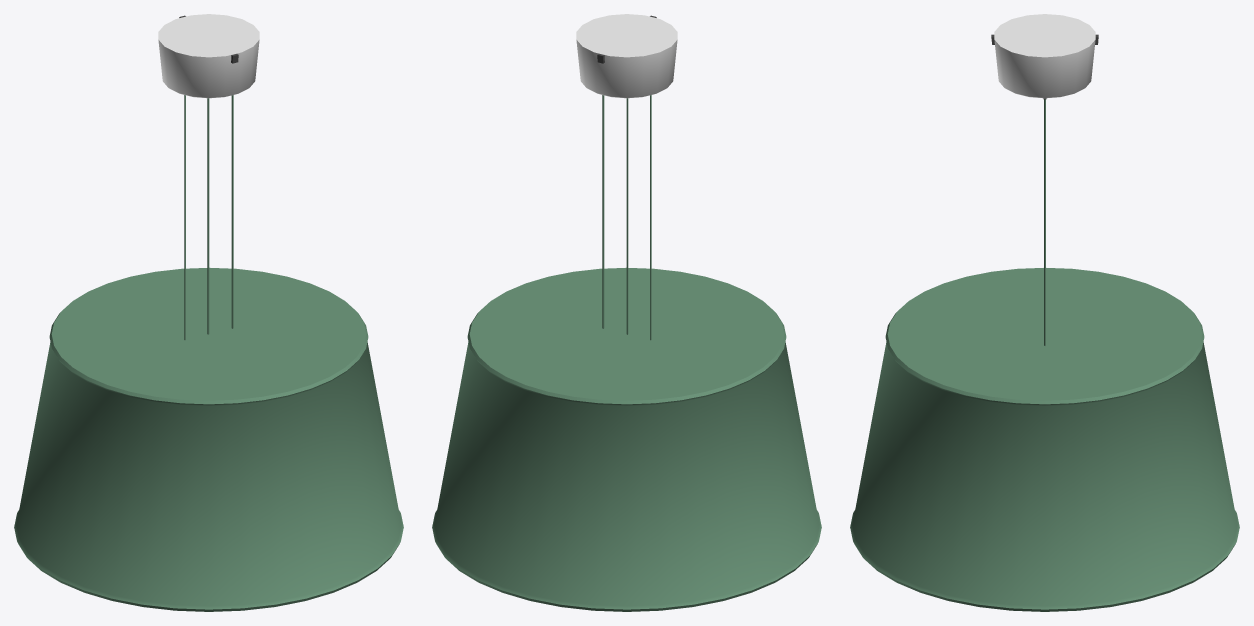
File: KullaPendantlamp.FBX
3 views of the same model, side by side, from view 1: azimuth 30°, elevation 25°; view 2: azimuth 150°, elevation 25°; view 3: azimuth 270°, elevation 25° (orthographic).
Visible parts, largest first — view 1: KullaPendantlamp; view 2: KullaPendantlamp; view 3: KullaPendantlamp.
Boxes of the visible parts, x1,y1,x2,y2 form: KullaPendantlamp: (14, 14, 403, 611); KullaPendantlamp: (432, 14, 821, 611); KullaPendantlamp: (850, 14, 1239, 611).
Bounding box in the file's own units: 50 × 50 × 70.
